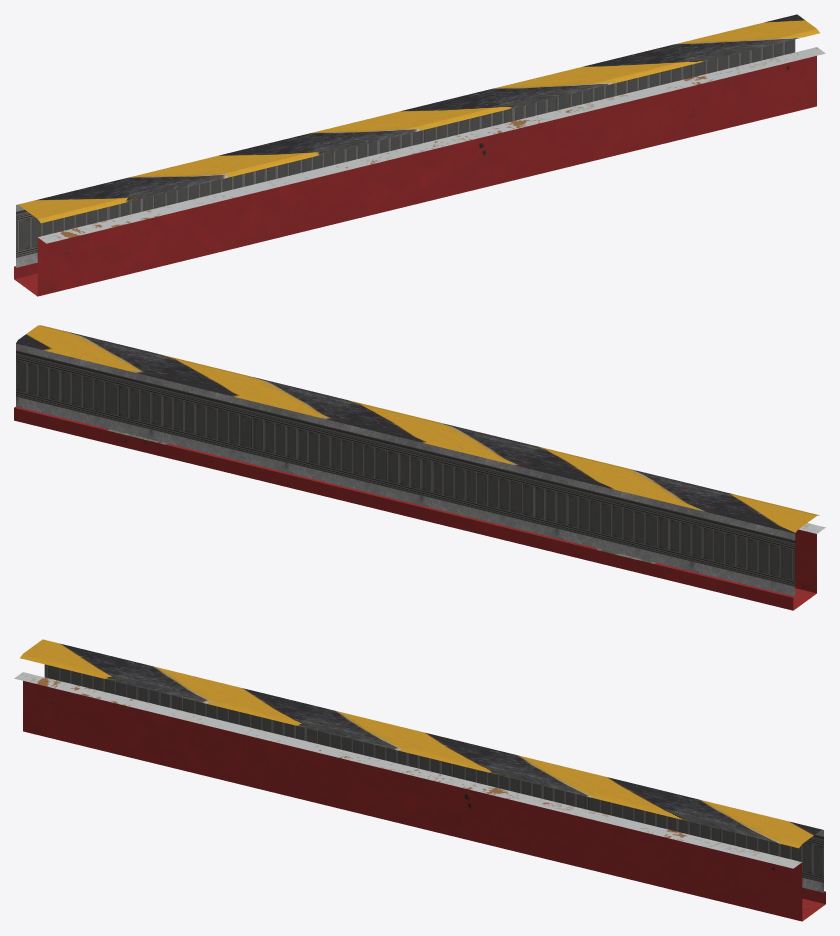
The model's file is Ob_PlatformEdge2_RC.fbx.
The picture shows the model from 3 angles, top to bottom: view 1: azimuth 30°, elevation 25°; view 2: azimuth 150°, elevation 25°; view 3: azimuth 330°, elevation 25°; orthographic projection.
Visible parts, largest first — view 1: Ob_PlatformEdge2_RC; view 2: Ob_PlatformEdge2_RC; view 3: Ob_PlatformEdge2_RC.
Part boxes in pixels (x1,y1,x2,y2): Ob_PlatformEdge2_RC: (14,14,825,296); Ob_PlatformEdge2_RC: (14,325,825,610); Ob_PlatformEdge2_RC: (14,639,825,921).
Size of the model in its own units: 2001 by 190 by 145.
